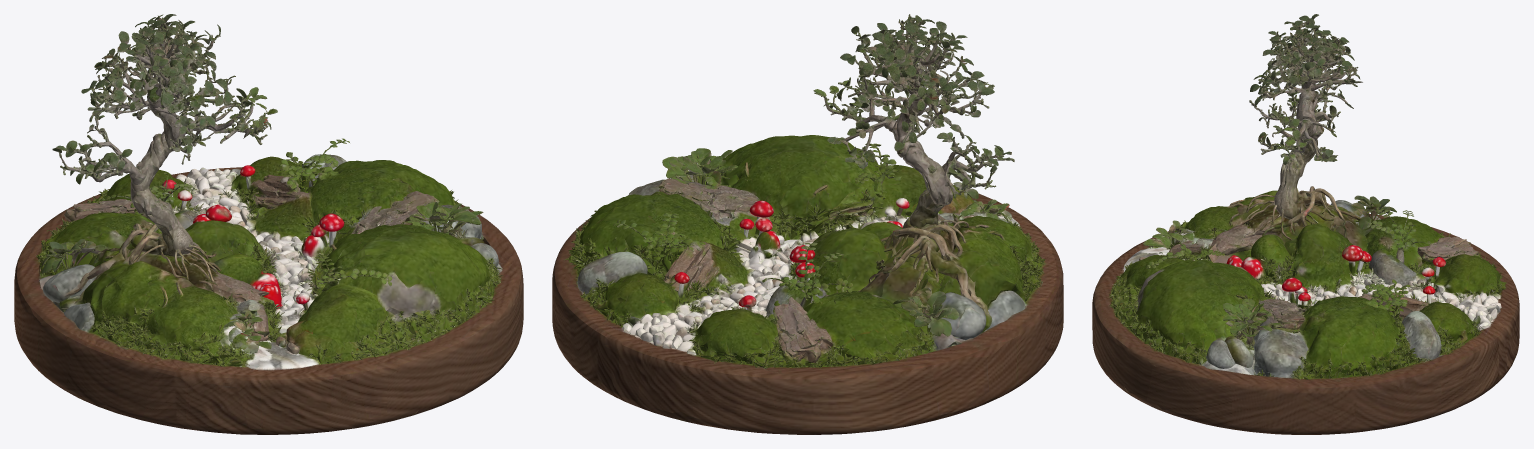
The model's file is moss.glb.
3 views of the same model, side by side, from view 1: azimuth 30°, elevation 25°; view 2: azimuth 150°, elevation 25°; view 3: azimuth 270°, elevation 25° (orthographic). The views are drawn at different scales.
Parts seen in each view (by area): view 1: Mesh_0; view 2: Mesh_0; view 3: Mesh_0.
Part boxes in pixels (x1,y1,x2,y2): Mesh_0: [14, 14, 523, 434]; Mesh_0: [552, 14, 1063, 434]; Mesh_0: [1092, 14, 1519, 434].
Size of the model in its own units: 1.9 by 1.37 by 1.9.
1 material, 1 textured.
